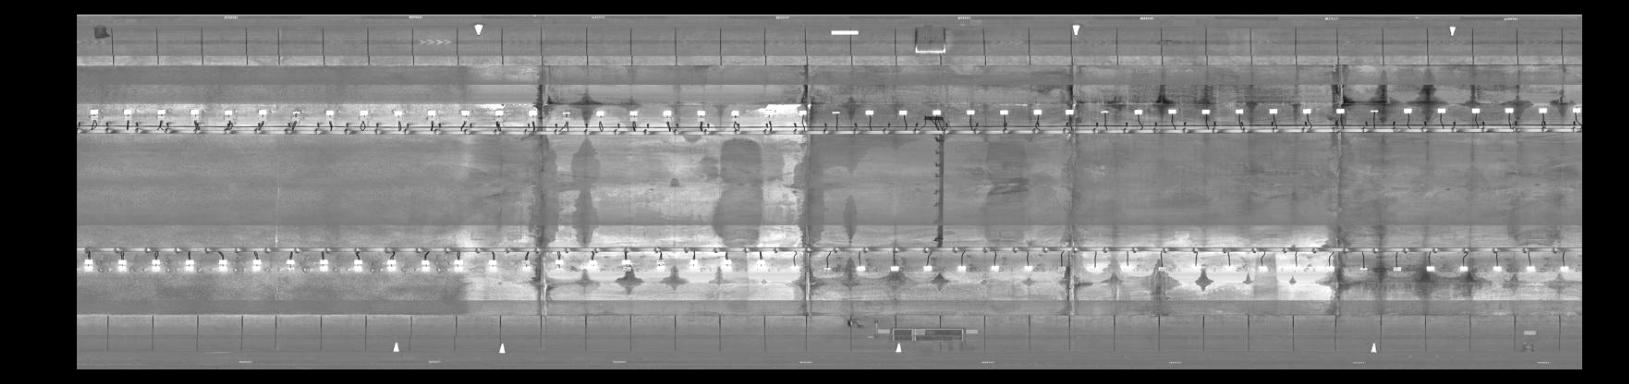light: (349, 255, 369, 276), (314, 257, 335, 275), (545, 257, 571, 271), (276, 256, 297, 273), (383, 256, 402, 274), (1051, 262, 1072, 277), (1487, 260, 1505, 277), (1554, 262, 1574, 277), (354, 104, 375, 118), (415, 259, 433, 275), (1387, 263, 1407, 277), (1196, 105, 1216, 119), (952, 263, 971, 277), (246, 257, 266, 272), (150, 106, 172, 118), (758, 106, 779, 119), (483, 258, 504, 272), (622, 106, 640, 121), (649, 257, 667, 273), (449, 258, 466, 274), (1453, 262, 1473, 275), (525, 106, 544, 119), (454, 107, 474, 120), (212, 257, 232, 271), (287, 106, 308, 118), (1432, 104, 1449, 118), (516, 260, 534, 275), (1297, 105, 1315, 118), (1118, 262, 1137, 275), (1150, 263, 1170, 275), (1084, 263, 1103, 275), (583, 258, 603, 271), (185, 107, 205, 119), (112, 259, 132, 272), (685, 256, 700, 272), (1354, 260, 1370, 275), (1252, 260, 1269, 275), (616, 257, 633, 272), (491, 106, 506, 122), (750, 259, 768, 273), (726, 106, 744, 119), (79, 258, 97, 272), (181, 258, 198, 272), (1419, 265, 1438, 277), (1061, 106, 1079, 118), (388, 107, 406, 119), (85, 106, 104, 118), (1331, 104, 1347, 117), (987, 262, 1004, 275), (590, 106, 607, 119), (1365, 105, 1383, 117), (851, 263, 869, 275), (892, 106, 910, 118), (691, 107, 709, 119), (422, 106, 439, 118), (144, 257, 165, 268), (1163, 106, 1181, 117), (1127, 106, 1146, 117), (918, 264, 937, 275), (1264, 104, 1279, 118), (1019, 262, 1035, 275), (658, 108, 673, 121), (321, 106, 337, 119), (1523, 262, 1538, 275), (1030, 106, 1045, 118), (719, 257, 735, 270), (255, 106, 270, 118), (219, 107, 236, 118), (1220, 262, 1239, 271), (1501, 105, 1515, 118), (1231, 106, 1246, 118), (887, 264, 902, 276), (559, 107, 573, 119), (119, 106, 134, 118), (996, 106, 1012, 117), (962, 106, 979, 116), (792, 108, 808, 118), (1535, 105, 1550, 116), (1400, 105, 1415, 116), (1321, 263, 1337, 273), (1189, 260, 1204, 271), (862, 108, 878, 118), (818, 265, 834, 274), (929, 107, 945, 116), (1469, 105, 1483, 116), (1567, 105, 1581, 115), (1289, 262, 1304, 272), (785, 264, 801, 273), (829, 108, 843, 118), (1097, 107, 1111, 116)
